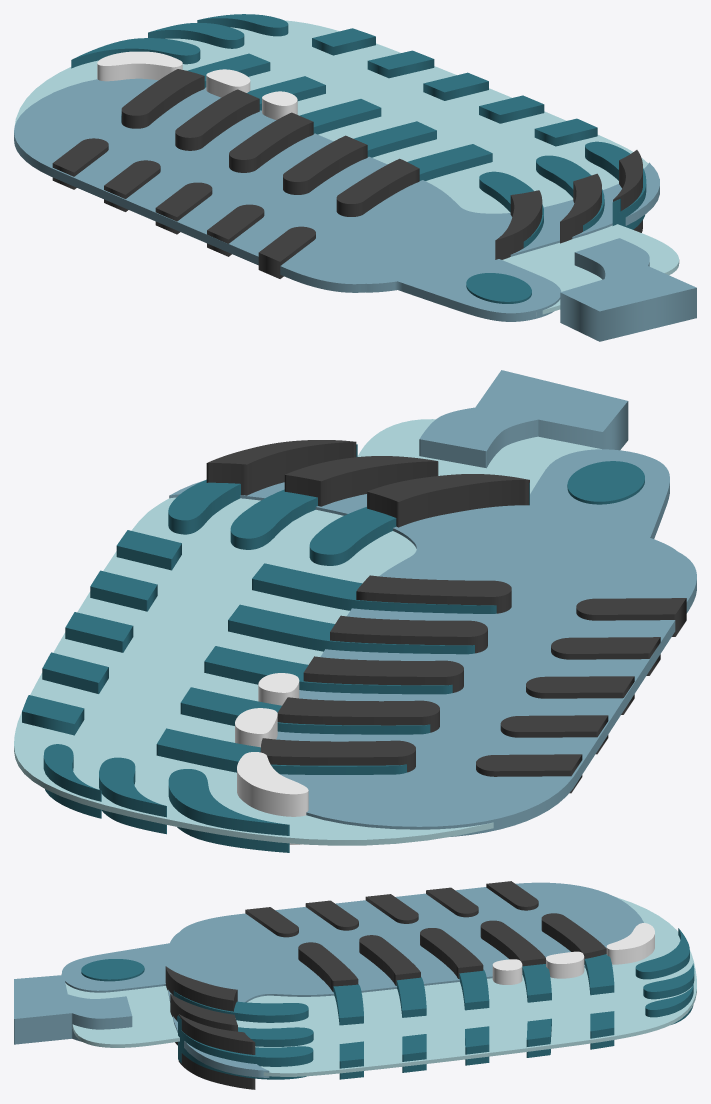
File: emoji_u1f399.glb
3 views of the same model, one above another, from view 1: azimuth 30°, elevation 25°; view 2: azimuth 150°, elevation 25°; view 3: azimuth 270°, elevation 25° (orthographic). The views are drawn at different scales.
Parts seen in each view (by area): view 1: emoji_u1f399; view 2: emoji_u1f399; view 3: emoji_u1f399.
Part boxes in pixels (bbox=[...]): emoji_u1f399: bbox=[14, 14, 696, 341]; emoji_u1f399: bbox=[14, 370, 696, 852]; emoji_u1f399: bbox=[14, 881, 696, 1089].
Size of the model in its own units: 0.0221 by 0.0026 by 0.0339.
